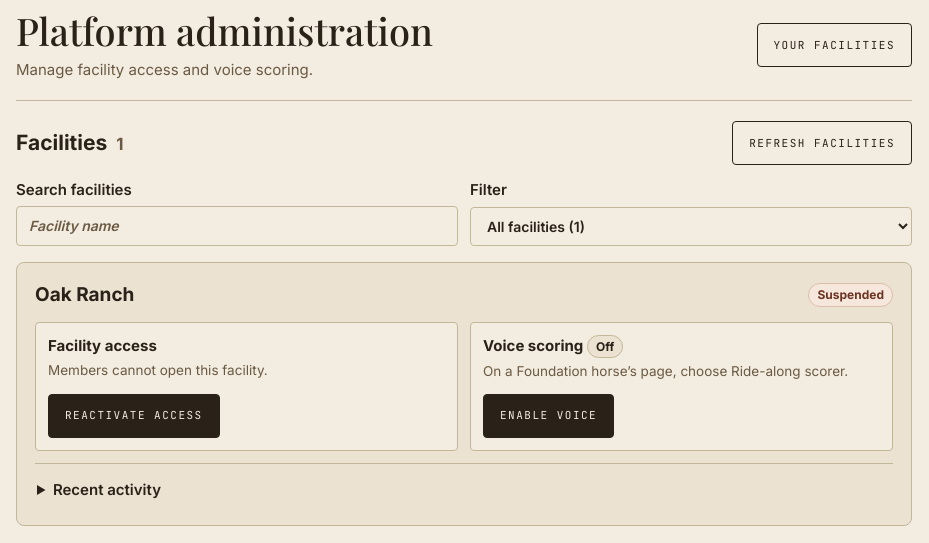
Scenario: announces a saved change even when the facility leaves the current filter
The image size is (929, 543).
Step 1. Select "Suspended (1)" in the dropdown labelled "Filter" → (691, 227), box [470, 207, 912, 246]
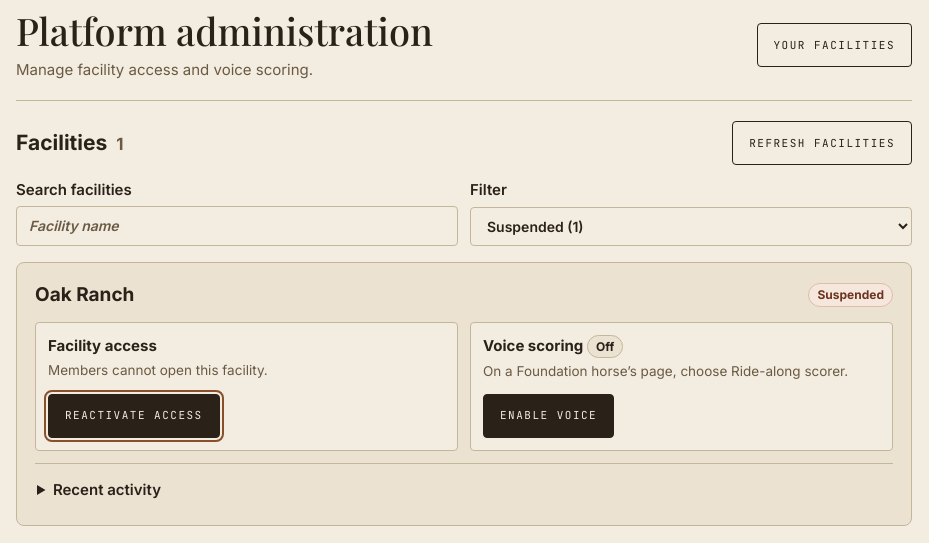
Step 2. Click the button "Reactivate access" → click(134, 416), box [48, 394, 220, 438]
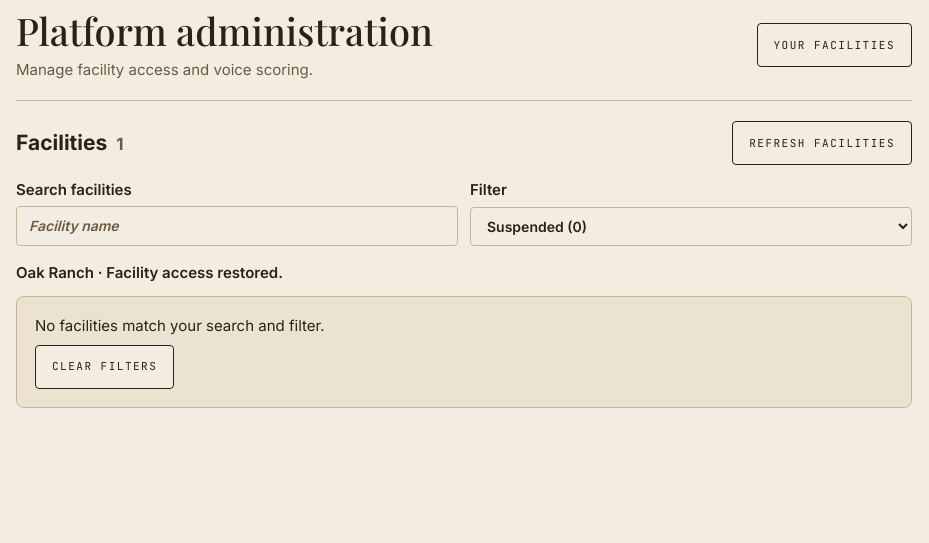
Now the text "Oak Ranch · Facility access restored." is shown, box [16, 263, 283, 282]
